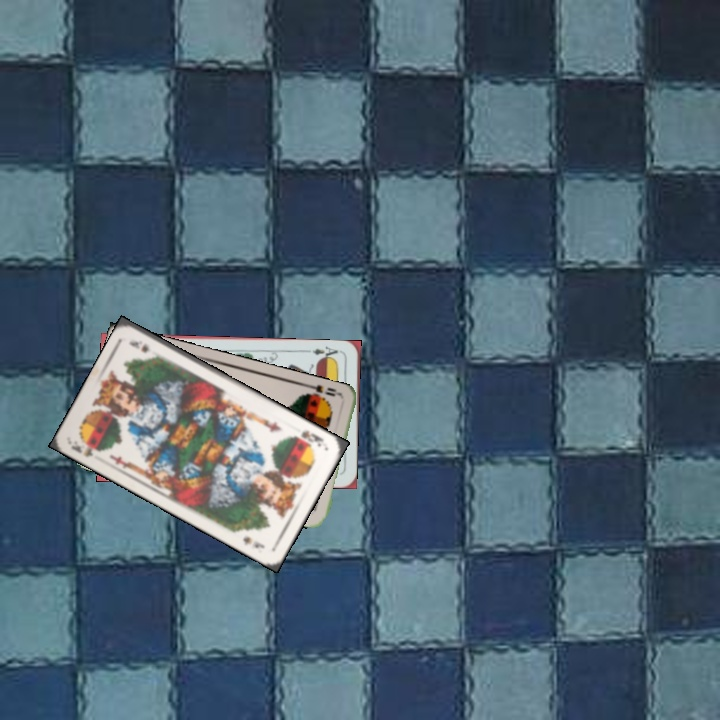EA: (304, 343, 344, 363)
SK: (67, 436, 103, 460), (297, 426, 327, 449)
SO: (302, 380, 344, 402)
